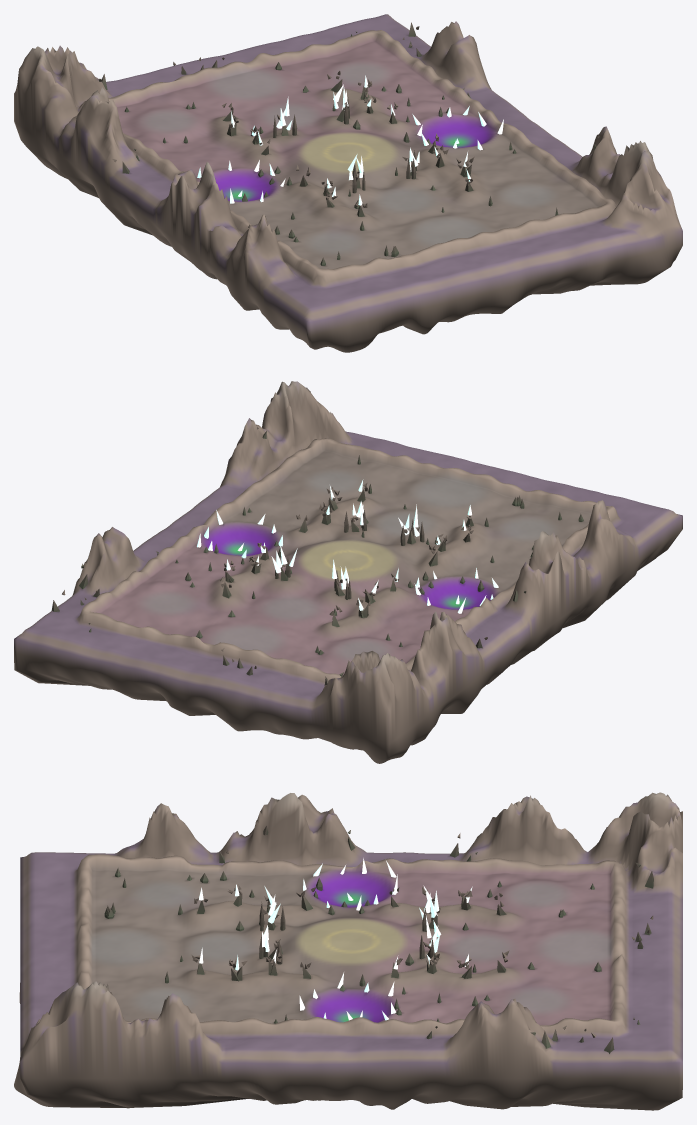
Rendered from battlefield.glb.
3 views of the same model, one above another, from view 1: azimuth 30°, elevation 25°; view 2: azimuth 150°, elevation 25°; view 3: azimuth 270°, elevation 25° (orthographic). The views are drawn at different scales.
Visible parts, largest first — view 1: Island, Rocks, Crystals; view 2: Island, Rocks, Crystals; view 3: Island, Rocks, Crystals.
Boxes of the visible parts, x1,y1,x2,y2 form: Island: [14, 14, 682, 352]; Rocks: [99, 22, 599, 265]; Crystals: [197, 75, 503, 205]; Island: [14, 381, 682, 763]; Rocks: [51, 427, 583, 685]; Crystals: [197, 479, 498, 613]; Island: [14, 792, 682, 1110]; Rocks: [104, 826, 653, 1053]; Crystals: [199, 858, 472, 1020].
Size of the model in its own units: 12.85 by 6.05 by 17.54.
